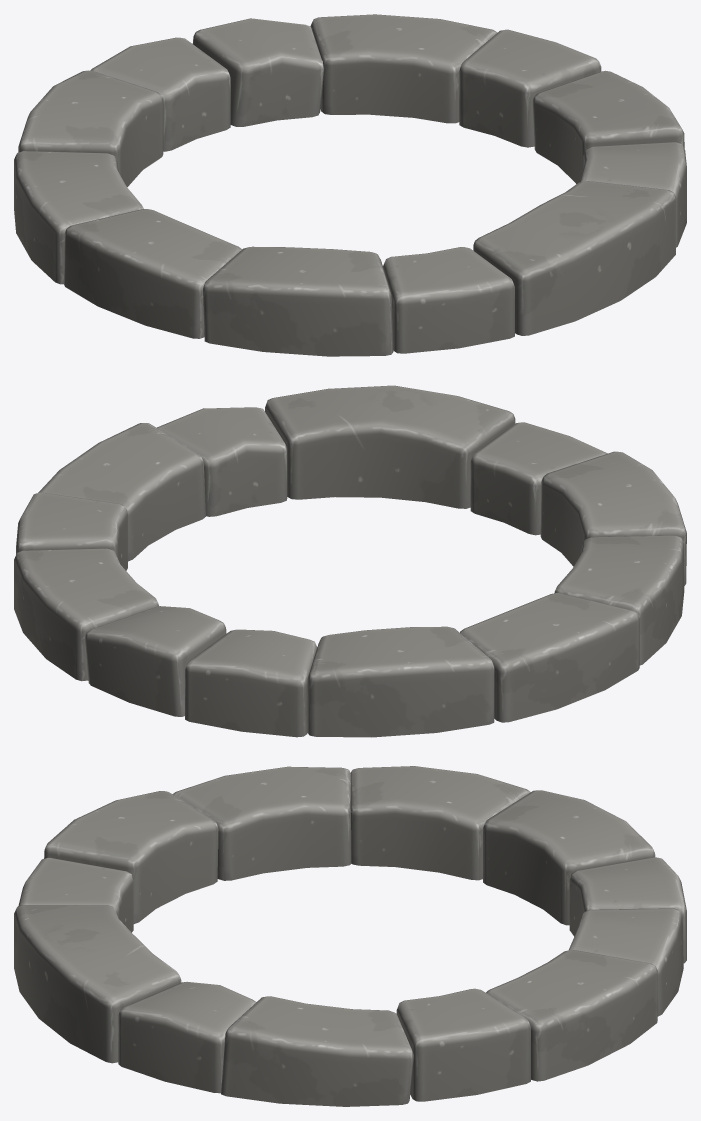
The model's file is Flowerpot6.fbx.
3 views of the same model, one above another, from view 1: azimuth 30°, elevation 25°; view 2: azimuth 150°, elevation 25°; view 3: azimuth 270°, elevation 25° (orthographic).
Visible parts, largest first — view 1: polySurface72; view 2: polySurface72; view 3: polySurface72.
Part boxes in pixels (x1,y1,x2,y2): polySurface72: (14,14,686,356); polySurface72: (14,385,686,737); polySurface72: (14,766,686,1106).
Size of the model in its own units: 136 by 16.18 by 135.
1 material, 1 textured.
